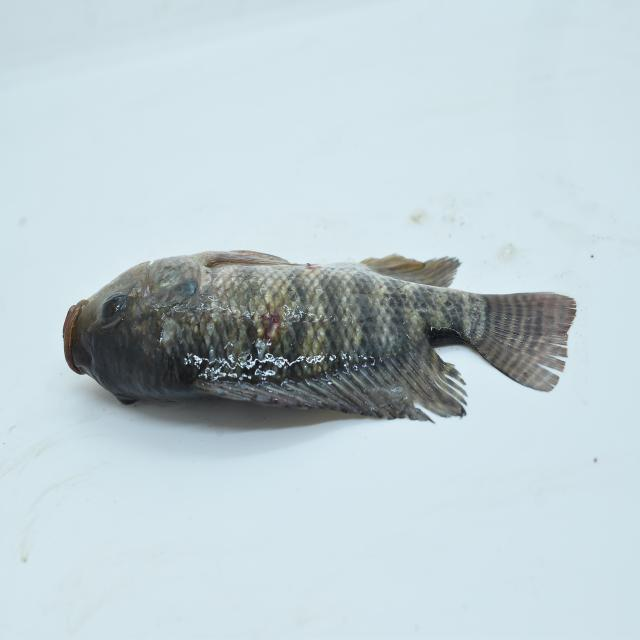Columnaris Disease: (61, 218, 594, 440)
